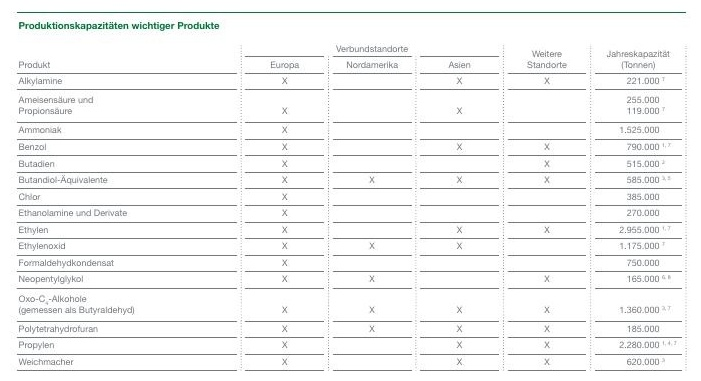table: (0, 0, 701, 381)
